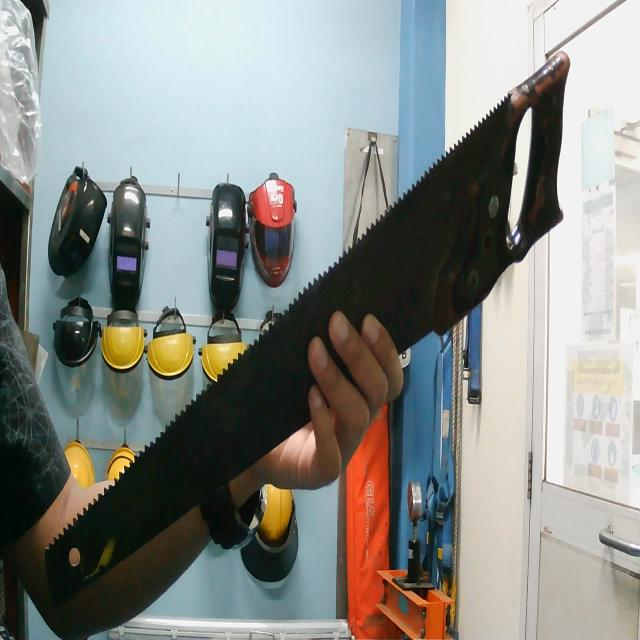gergaji_kayu: (40, 25, 587, 635)
